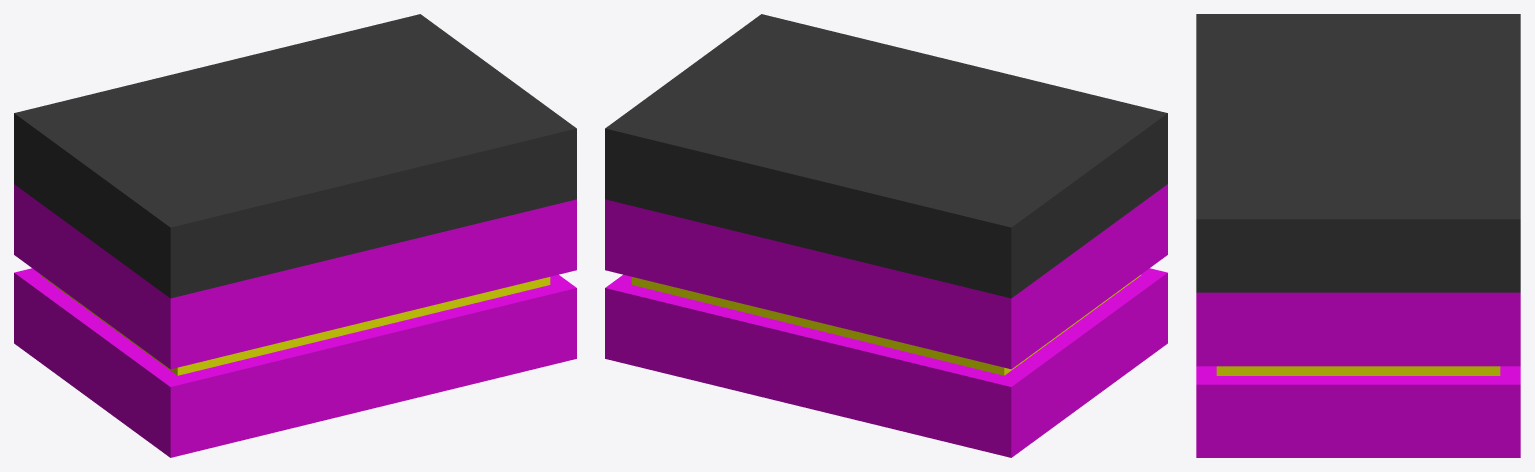
The model's file is vanguardBarracks.obj.
3 renders of one model, left to right at view 1: azimuth 30°, elevation 25°; view 2: azimuth 150°, elevation 25°; view 3: azimuth 270°, elevation 25°, orthographic. The views are drawn at different scales.
Visible parts, largest first — view 1: Cube, Cube.002, Cube.003, Cube.001; view 2: Cube, Cube.002, Cube.003, Cube.001; view 3: Cube, Cube.002, Cube.003, Cube.001.
Boxes of the visible parts, box(x1,y1,x2,y2) form: Cube: box(14, 14, 576, 298); Cube.002: box(14, 268, 576, 457); Cube.003: box(14, 184, 576, 369); Cube.001: box(40, 274, 550, 375); Cube: box(605, 14, 1167, 298); Cube.002: box(605, 268, 1167, 457); Cube.003: box(605, 184, 1167, 369); Cube.001: box(631, 274, 1141, 375); Cube: box(1196, 14, 1520, 292); Cube.002: box(1196, 366, 1520, 457); Cube.003: box(1196, 292, 1520, 366); Cube.001: box(1216, 366, 1500, 375).
Bounding box in the file's own units: 96 × 52 × 64.
